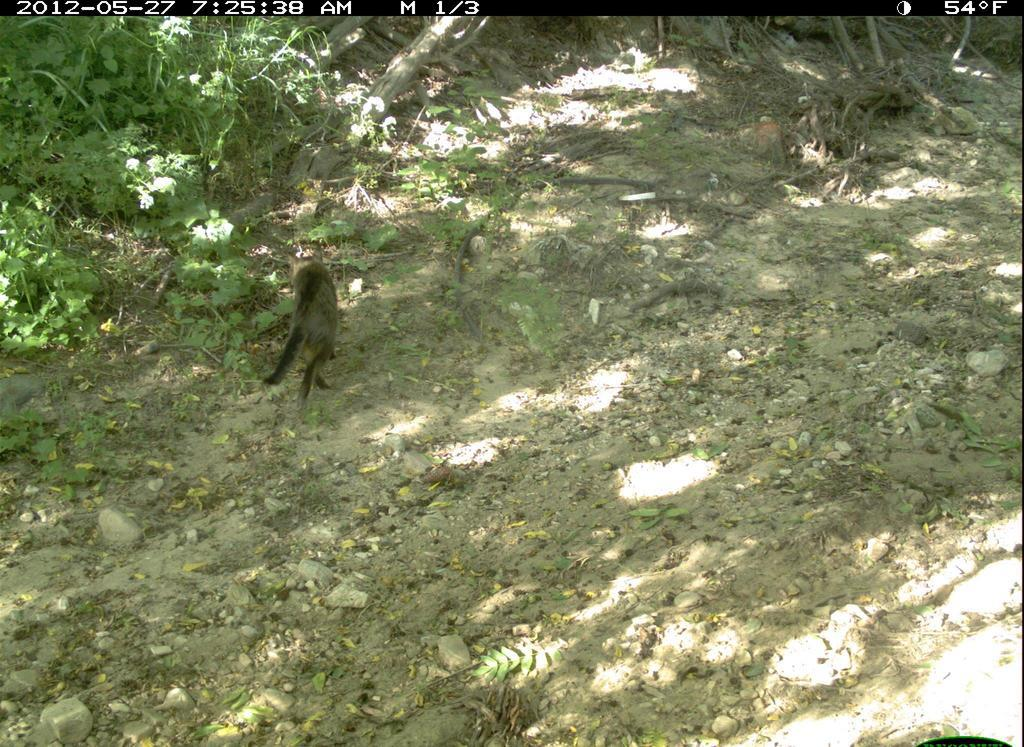cat: (251, 223, 361, 425)
